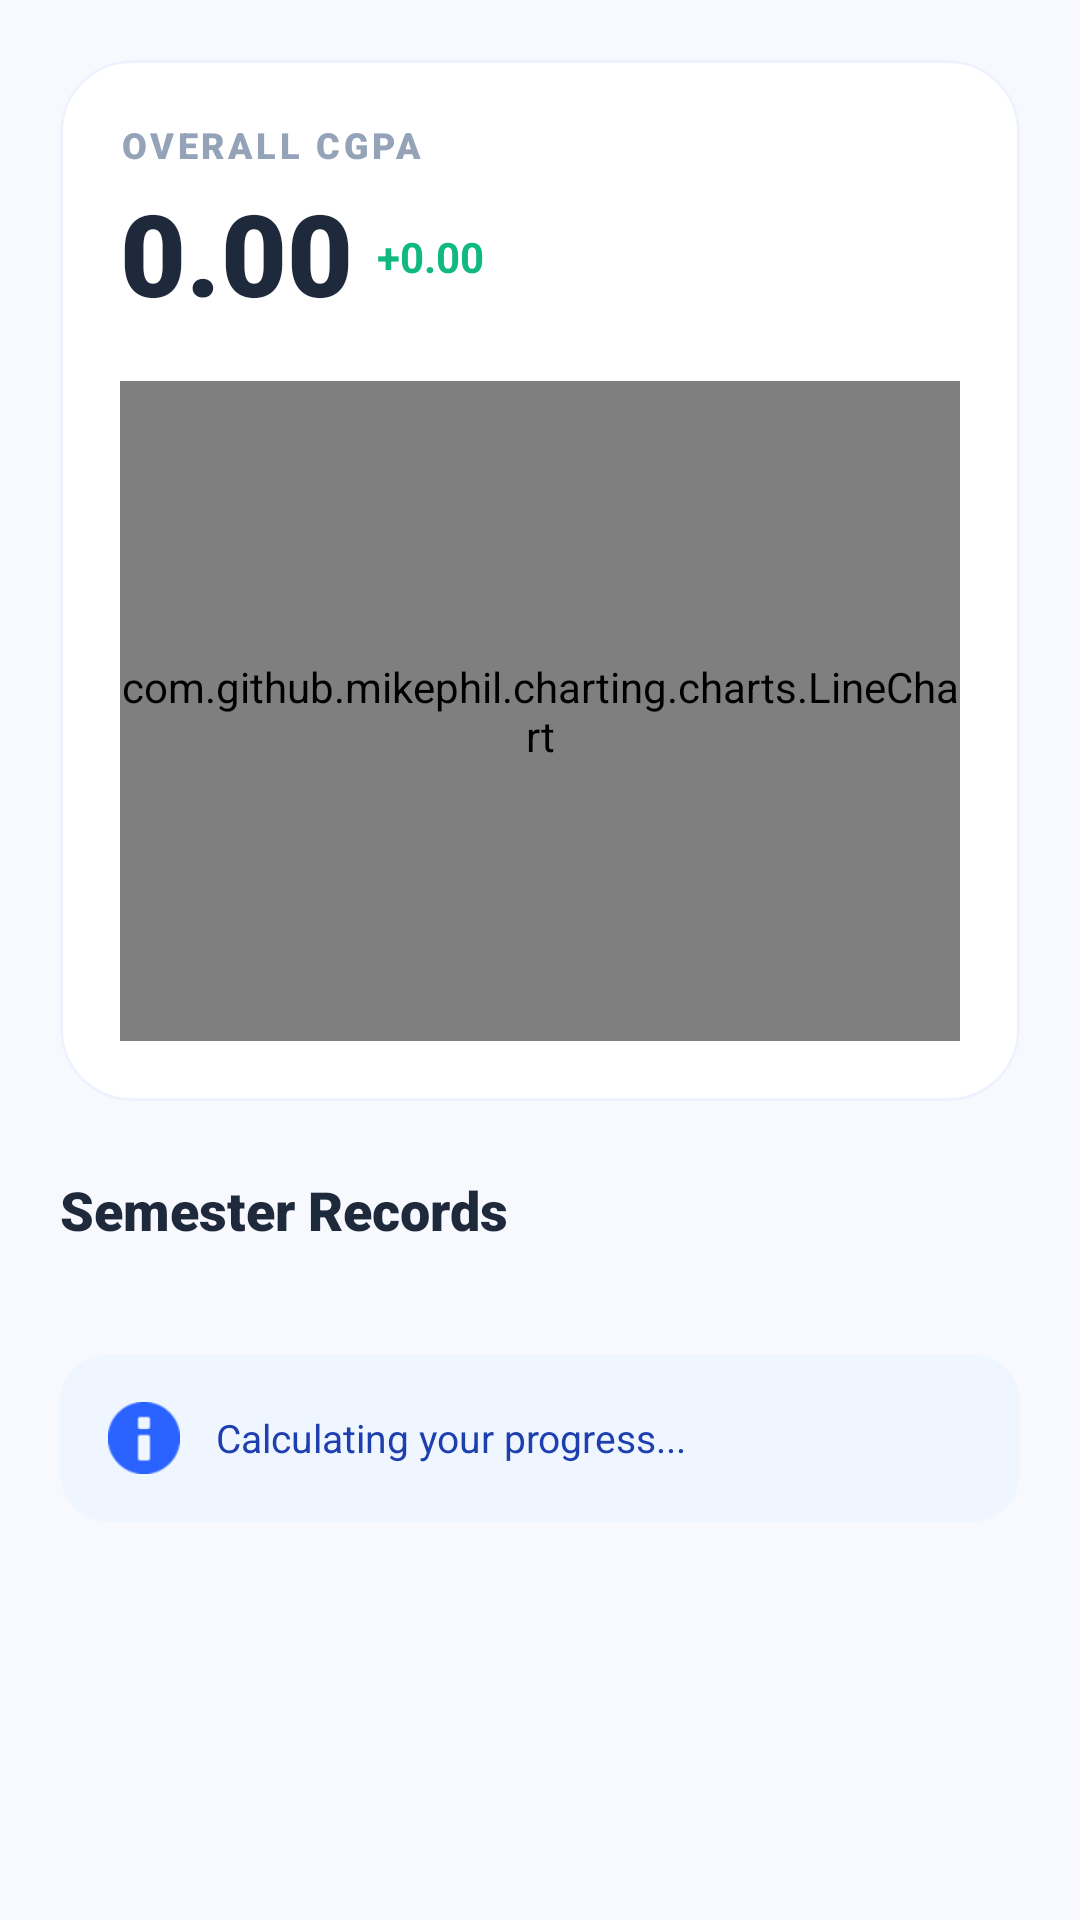

Screen size 1080×1920. Icon name, then its box in pixels as (x1, y1, x2, y2):
info: (108, 1402, 180, 1474)
